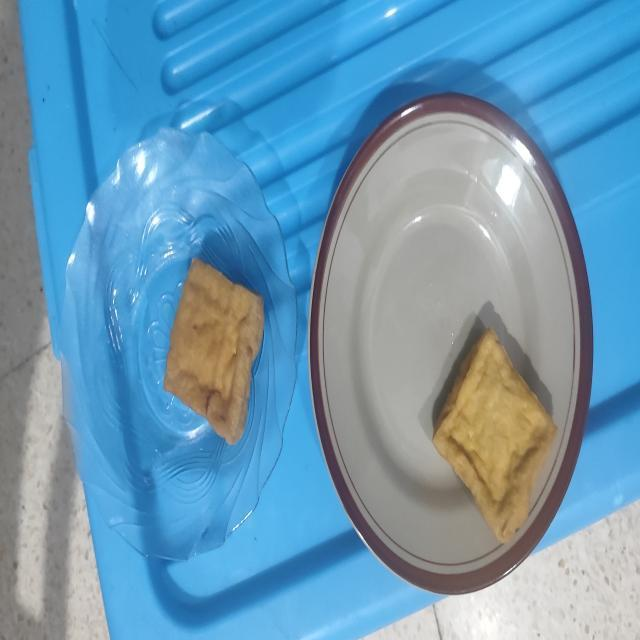tahu_goreng: (433, 329, 558, 543), (163, 258, 264, 444)
